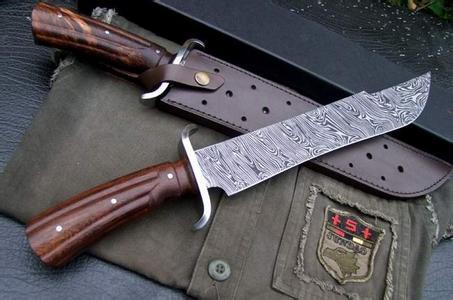knife: (5, 66, 446, 269)
